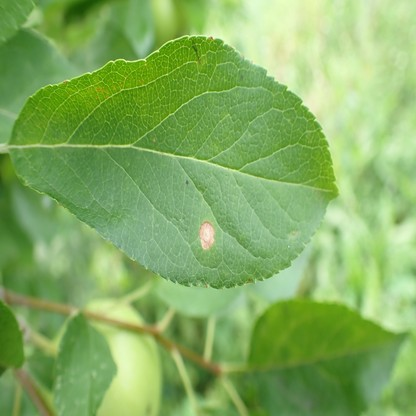frogeye_leaf_spot: (199, 222, 216, 250)
